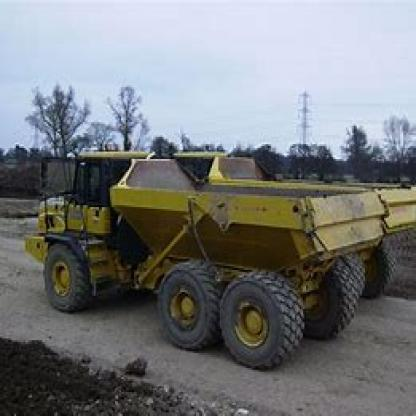dump_truck: (11, 131, 414, 370)
